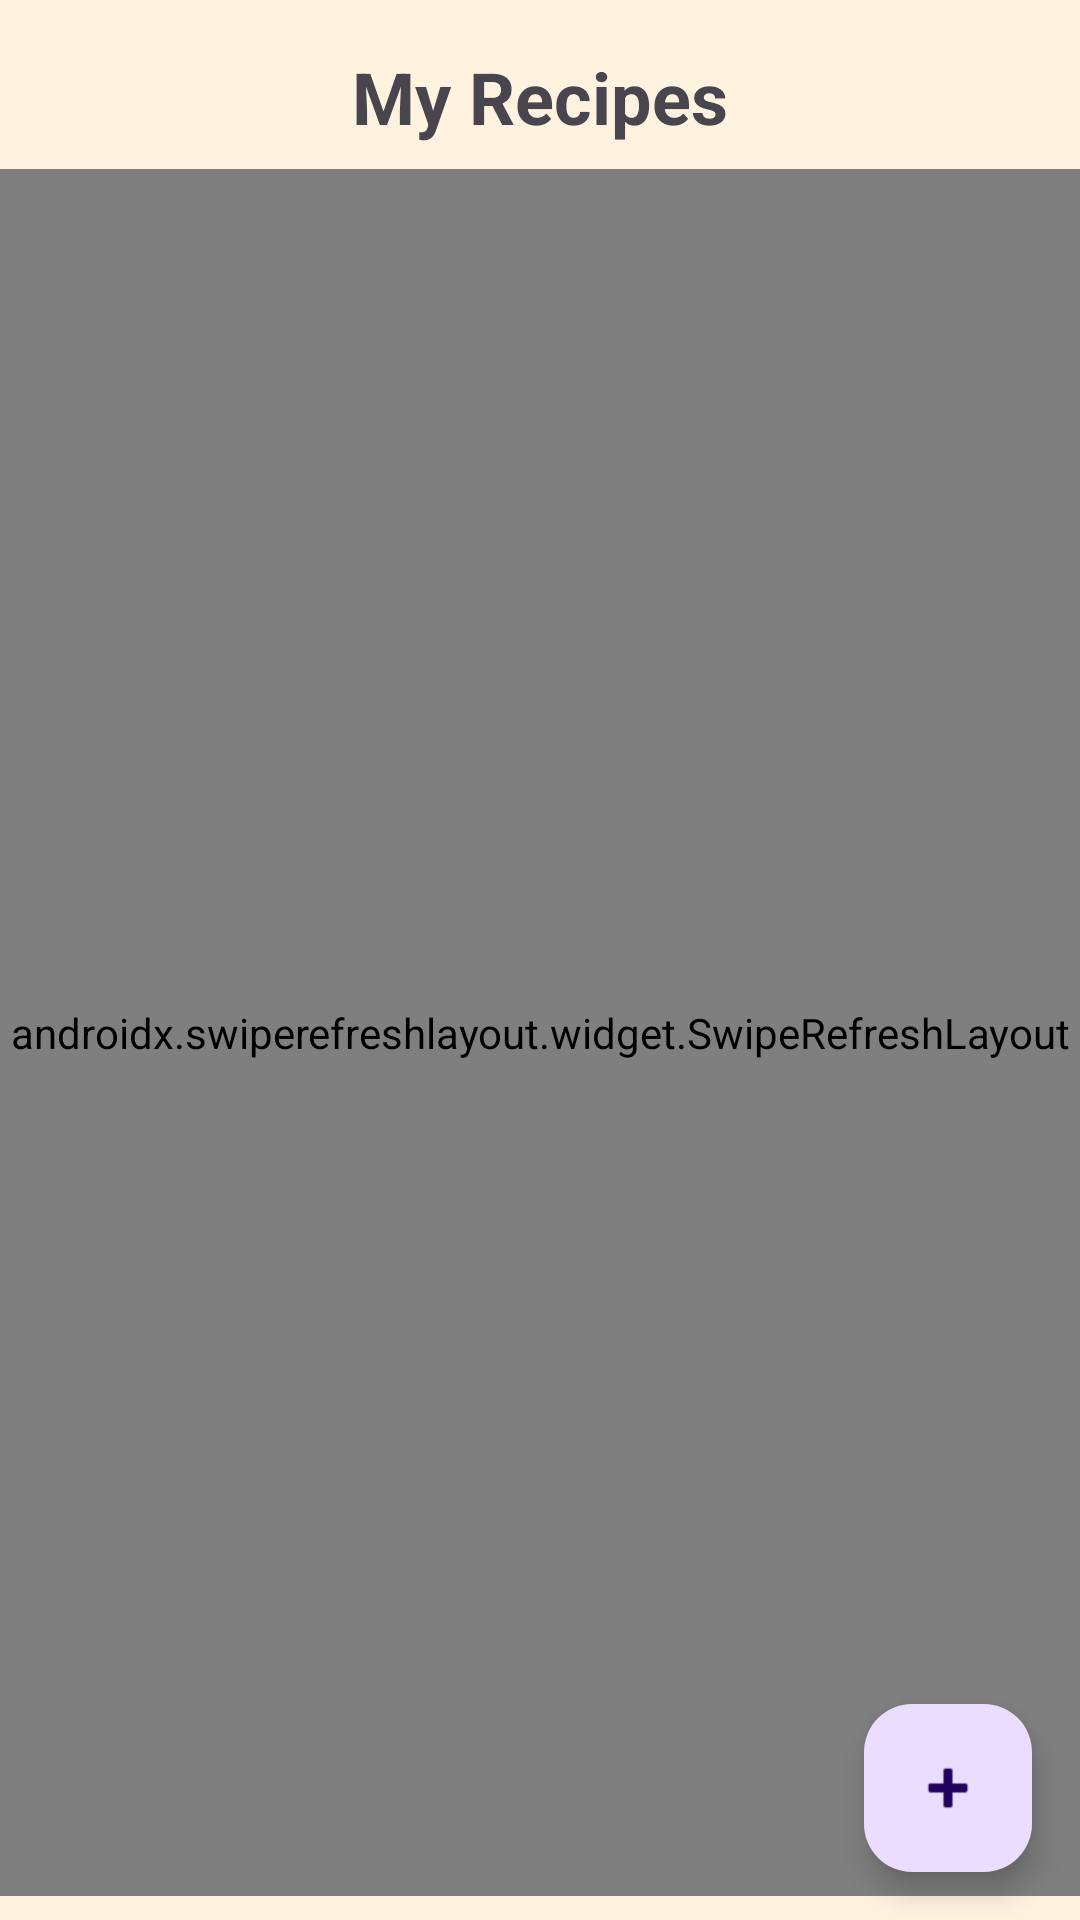

Icons on this 1080*1920 Android screen, each with the point to tap as point (x, y):
Add new recipe group: point (948, 1788)
